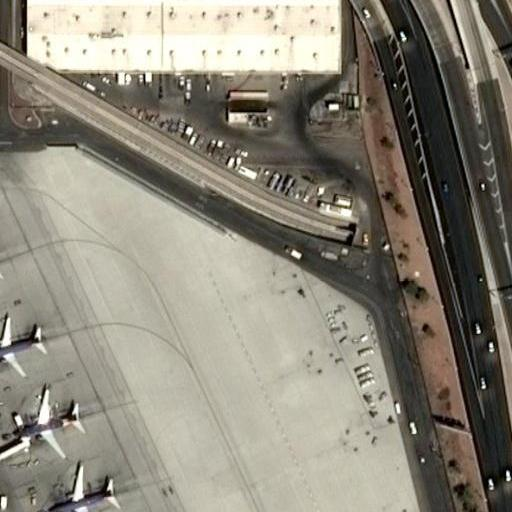Aircraft: (9, 382, 83, 455), (50, 460, 121, 512), (0, 313, 46, 374)
